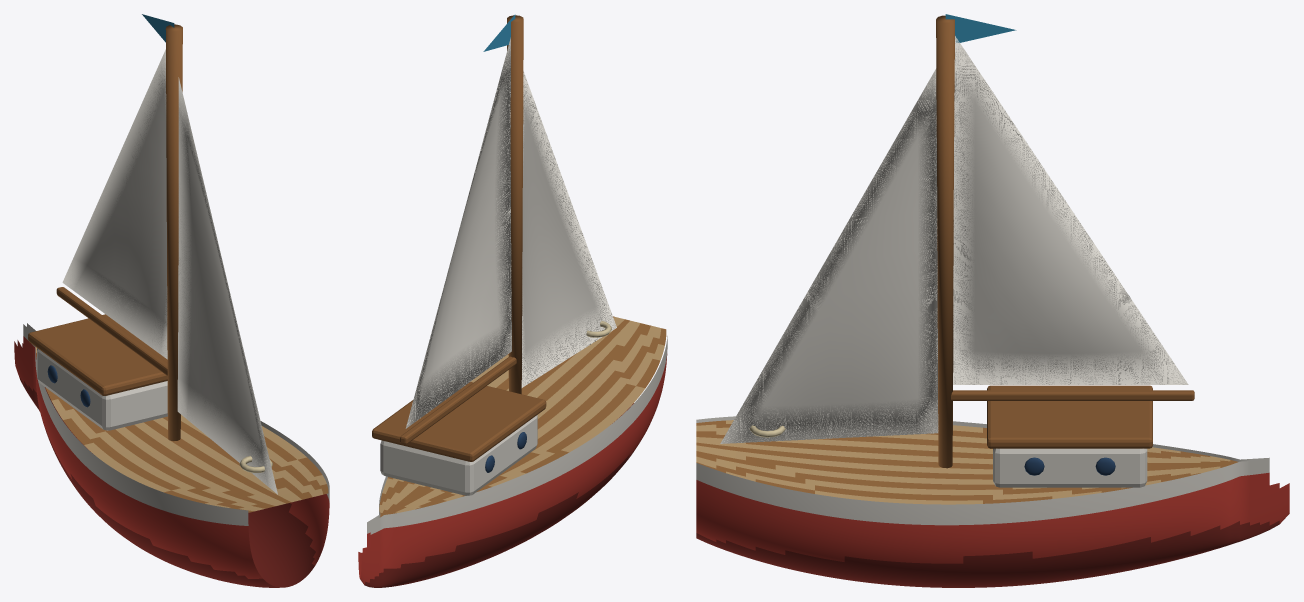
The model's file is boat.glb.
The picture shows the model from 3 angles, left to right: view 1: azimuth 30°, elevation 25°; view 2: azimuth 150°, elevation 25°; view 3: azimuth 270°, elevation 25°; orthographic projection. The views are drawn at different scales.
Parts seen in each view (by area): view 1: Boat; view 2: Boat; view 3: Boat.
Part boxes in pixels (left/top/right/bottom): Boat: left=14, top=14, right=329, bottom=587; Boat: left=358, top=14, right=667, bottom=587; Boat: left=696, top=14, right=1289, bottom=587.
Bounding box in the file's own units: 0.3417 × 1.05 × 1.
